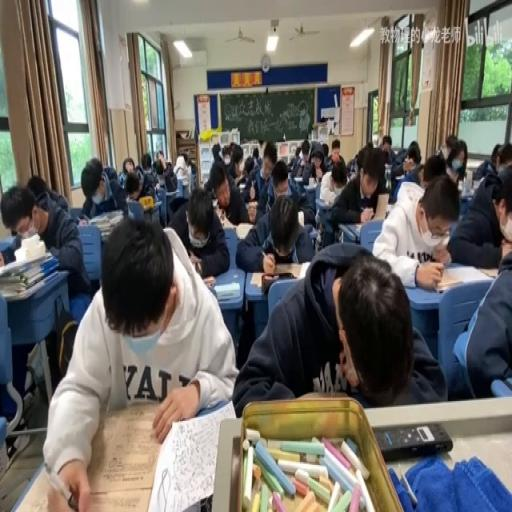calculator: (78, 212, 138, 273), (434, 265, 492, 290), (250, 266, 307, 289), (366, 191, 389, 223), (213, 280, 241, 300), (338, 219, 360, 242), (217, 212, 237, 230), (234, 222, 253, 240), (320, 186, 338, 205), (479, 266, 499, 277), (470, 176, 484, 190), (76, 214, 89, 224), (164, 185, 177, 193), (386, 202, 396, 212), (179, 175, 190, 183), (394, 172, 405, 179), (293, 176, 302, 184), (150, 198, 162, 204), (211, 196, 218, 206)
paper: (43, 213, 232, 509), (234, 242, 441, 415), (0, 179, 90, 303), (373, 170, 459, 284), (457, 244, 510, 400), (235, 184, 314, 270), (323, 144, 384, 246), (449, 165, 510, 266), (168, 180, 230, 278), (78, 156, 126, 220), (390, 136, 422, 188), (300, 140, 330, 184), (238, 155, 260, 203), (154, 151, 178, 192), (422, 153, 446, 185), (221, 142, 239, 179), (27, 173, 49, 202), (351, 142, 370, 174), (124, 171, 143, 202), (0, 235, 21, 263), (272, 164, 289, 194), (331, 168, 346, 190), (262, 155, 276, 176), (455, 138, 466, 164), (497, 164, 511, 184), (330, 138, 340, 165), (490, 144, 502, 165), (141, 152, 152, 174), (381, 134, 392, 155), (444, 134, 458, 150), (122, 158, 134, 173), (211, 141, 221, 158), (293, 142, 302, 160), (440, 144, 450, 160), (180, 155, 190, 169), (416, 165, 423, 185), (188, 161, 197, 176), (235, 175, 245, 188), (252, 145, 259, 161), (118, 171, 125, 186), (322, 141, 328, 158), (134, 164, 142, 176), (157, 150, 163, 164), (165, 161, 172, 169)
person: (374, 422, 451, 461), (202, 276, 214, 286)
